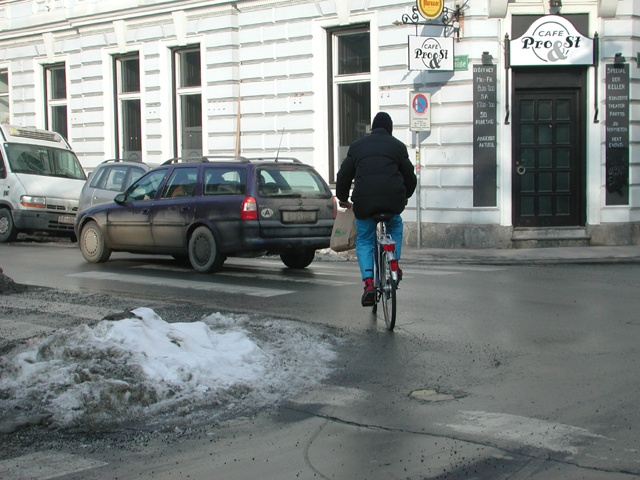person: (336, 112, 418, 316)
